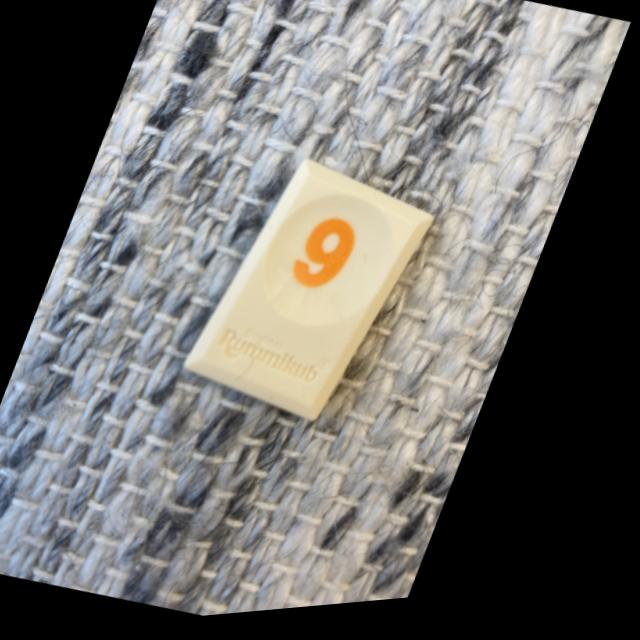orange_9: (193, 165, 438, 426)
